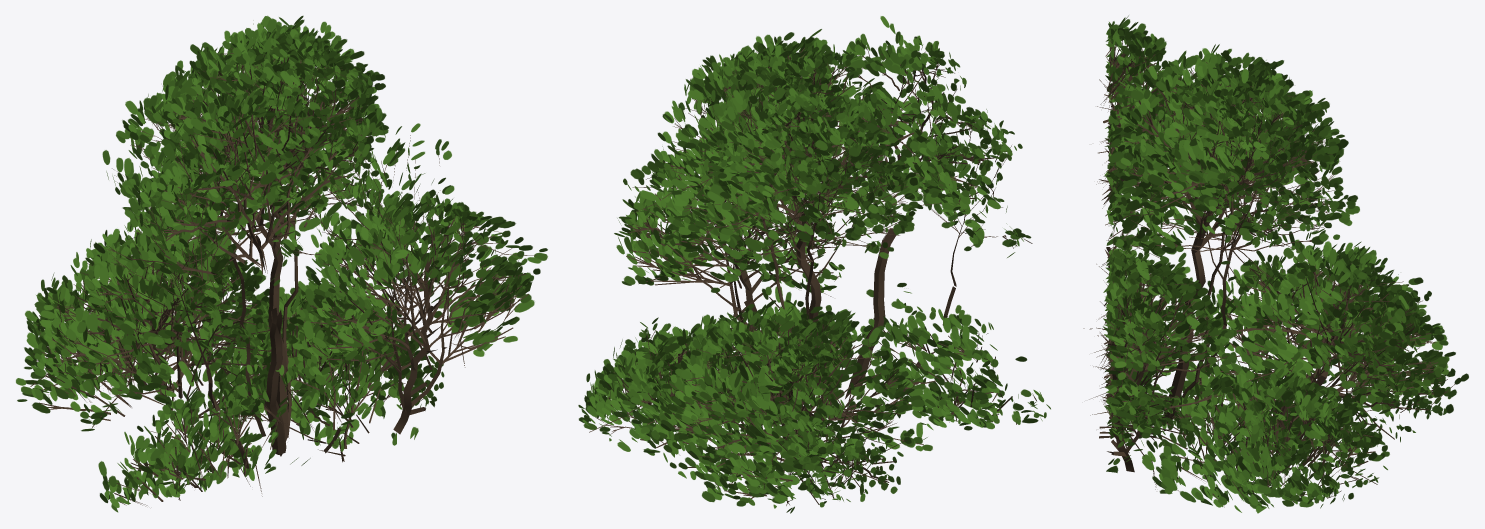
3 renders of one model, left to right at view 1: azimuth 30°, elevation 25°; view 2: azimuth 150°, elevation 25°; view 3: azimuth 270°, elevation 25°, orthographic. The views are drawn at different scales.
Parts seen in each view (by area): view 1: oak 01.001_trunk_Mat.001_0.193; view 2: oak 01.001_trunk_Mat.001_0.193; view 3: oak 01.001_trunk_Mat.001_0.193.
Boxes of the visible parts, x1,y1,x2,y2 form: oak 01.001_trunk_Mat.001_0.193: (16, 15, 547, 512); oak 01.001_trunk_Mat.001_0.193: (578, 16, 1050, 513); oak 01.001_trunk_Mat.001_0.193: (1083, 15, 1468, 513).
Size of the model in its own units: 5.26 by 4.62 by 4.09.
Materials: 2 (1 with a texture image).
